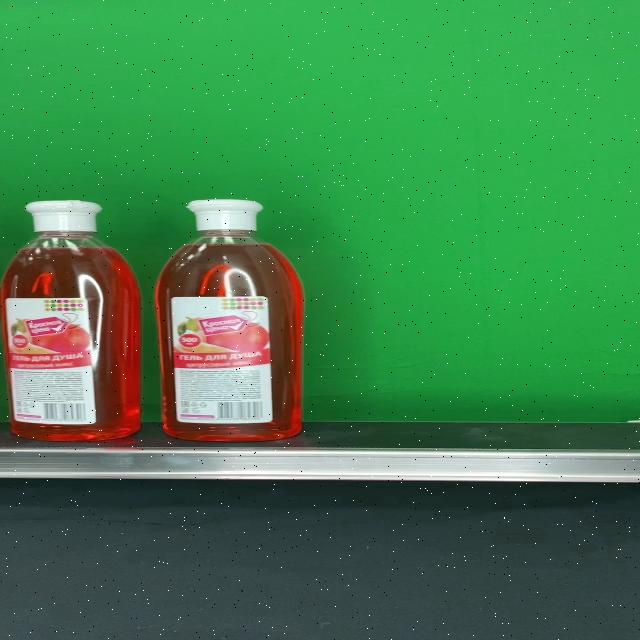Bottle: (154, 200, 305, 440), (0, 200, 140, 441)
Cap: (25, 200, 103, 233), (186, 200, 264, 232)
